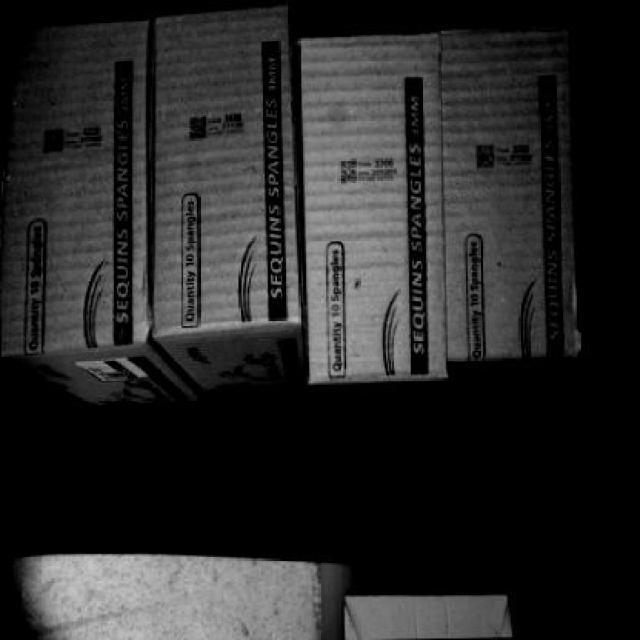box: (302, 33, 449, 382), (150, 11, 304, 337), (6, 10, 148, 350), (444, 27, 581, 362)
